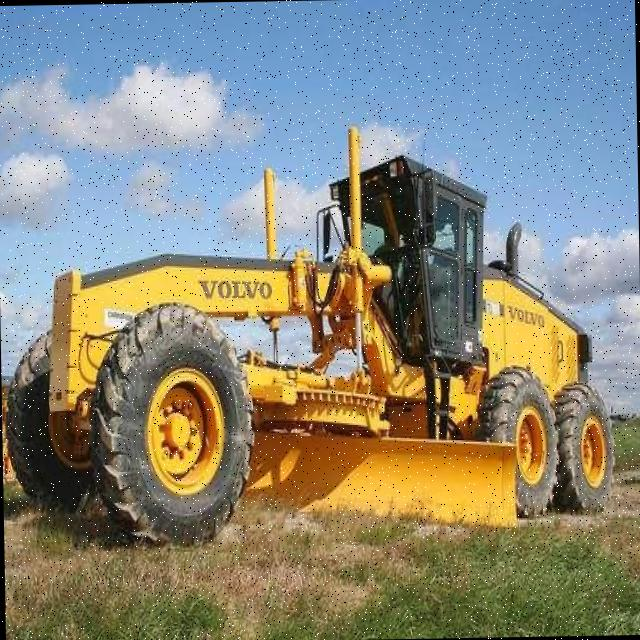Grader: (0, 124, 614, 544)
